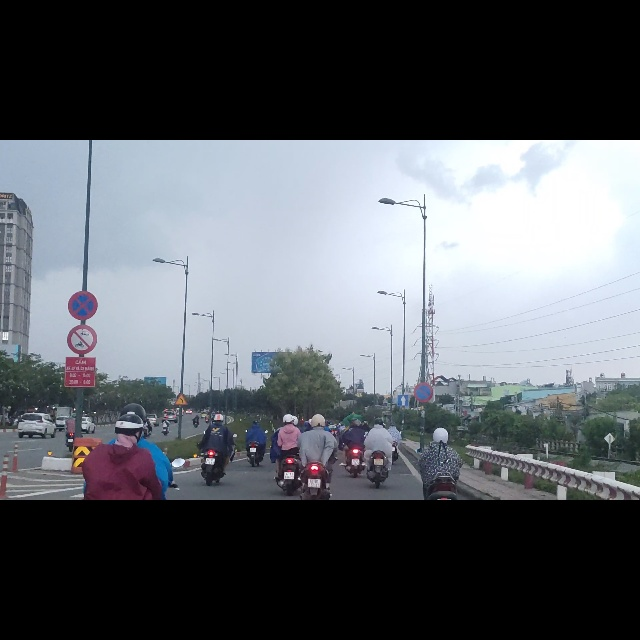bien_nguy_hiem: (67, 328, 97, 382), (68, 268, 98, 320), (413, 431, 433, 466), (174, 451, 188, 471), (398, 453, 409, 472)
